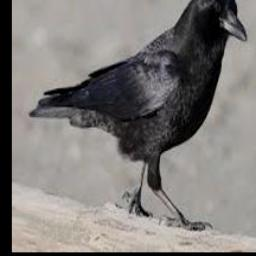Crow: (27, 0, 247, 231)
